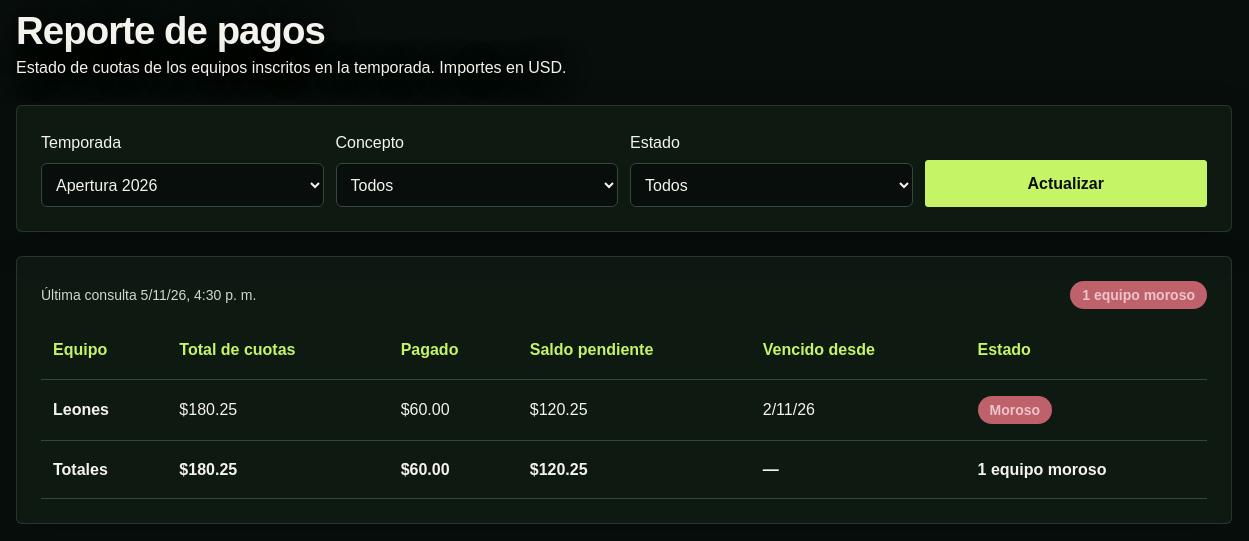
Test: aplica los filtros al actualizar y distingue un reporte vacío de un error
The image size is (1249, 541).
Check: the table is shown, box [41,321,1207,499]
Select "Clausura 2025" in the dropdown labelled "Temporada" at (182, 185), box [41,163,324,207]
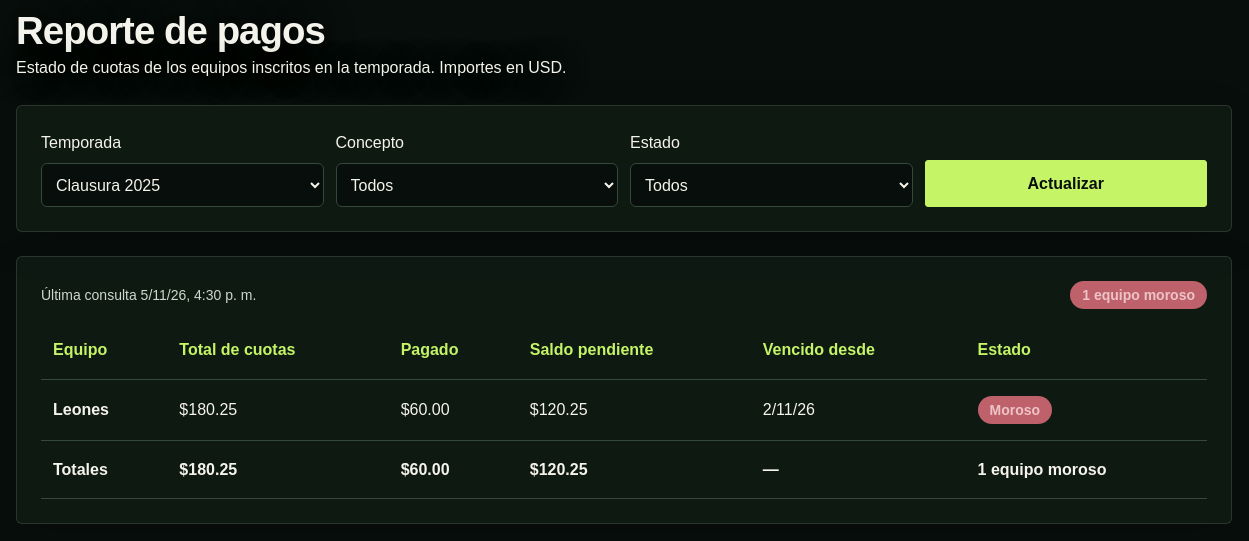
Select "Arbitraje" in the dropdown labelled "Concepto" at (477, 185), box [336,163,618,207]
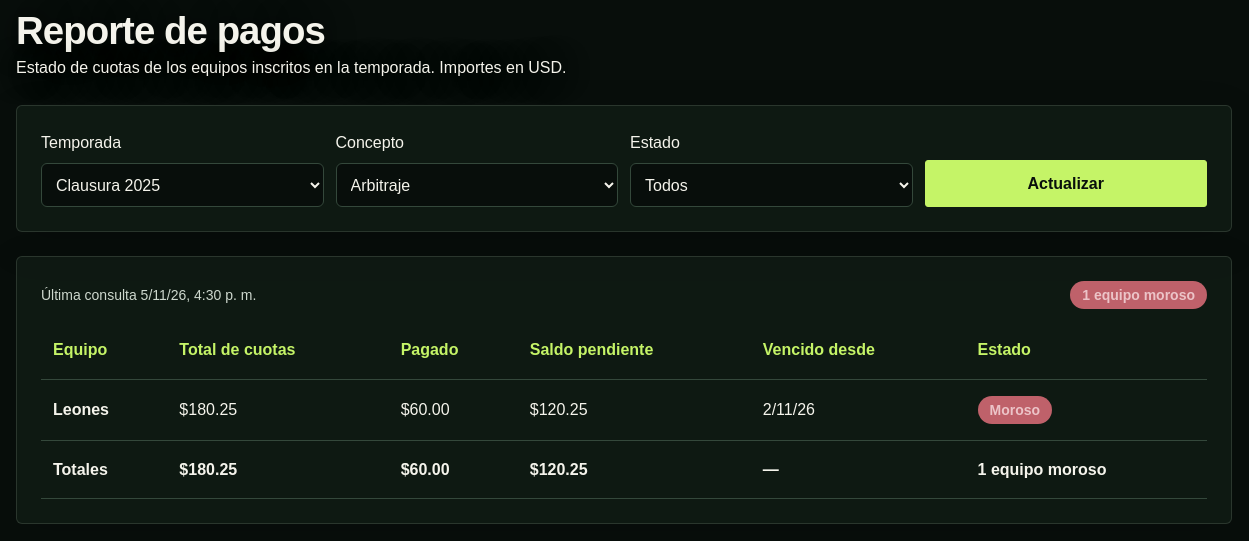
Select "Moroso" in the dropdown labelled "Estado" at (771, 185), box [630,163,912,207]
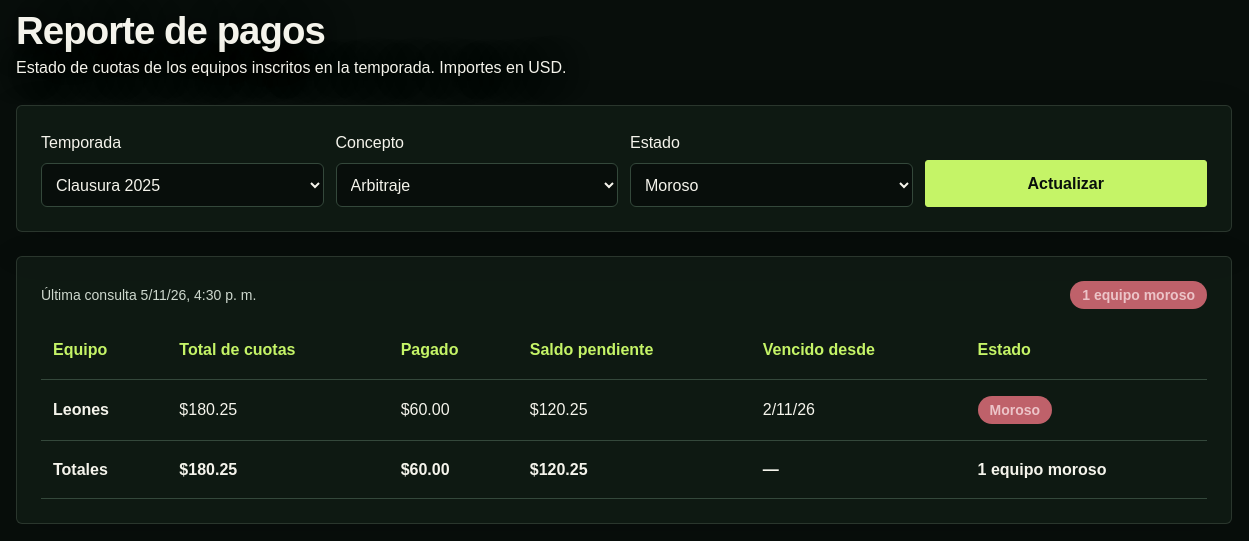
Click the button "Actualizar" at (1066, 183), box [924,160,1207,207]
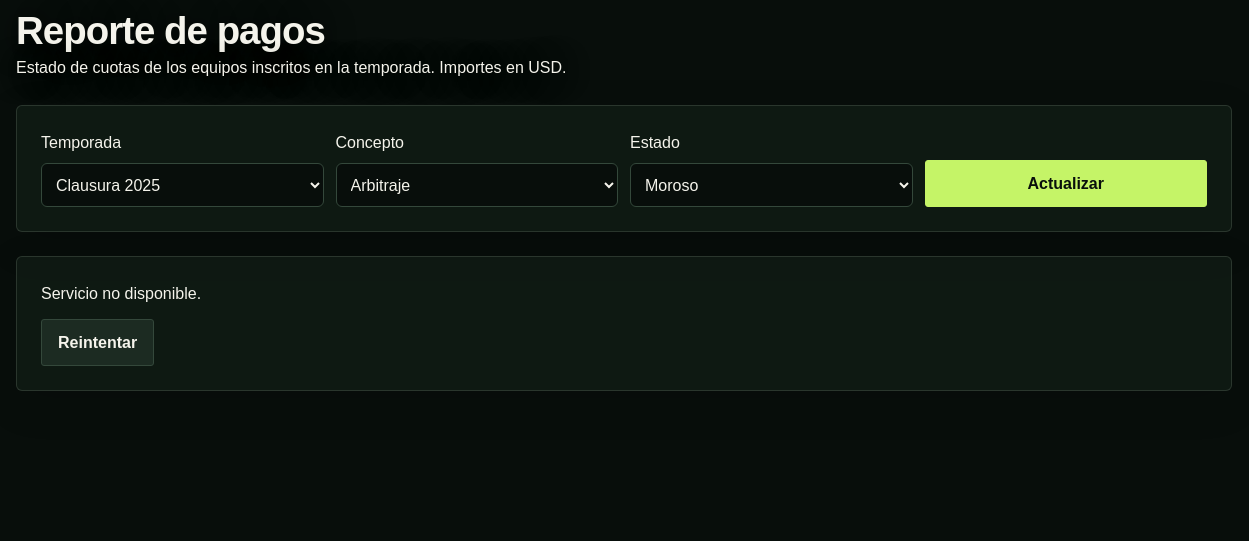
Check: the message "Servicio no disponible." is shown, box [41,281,201,307]
Check: the table is gone
Click the button "Reintentar" at (98, 343), box [41,319,154,366]
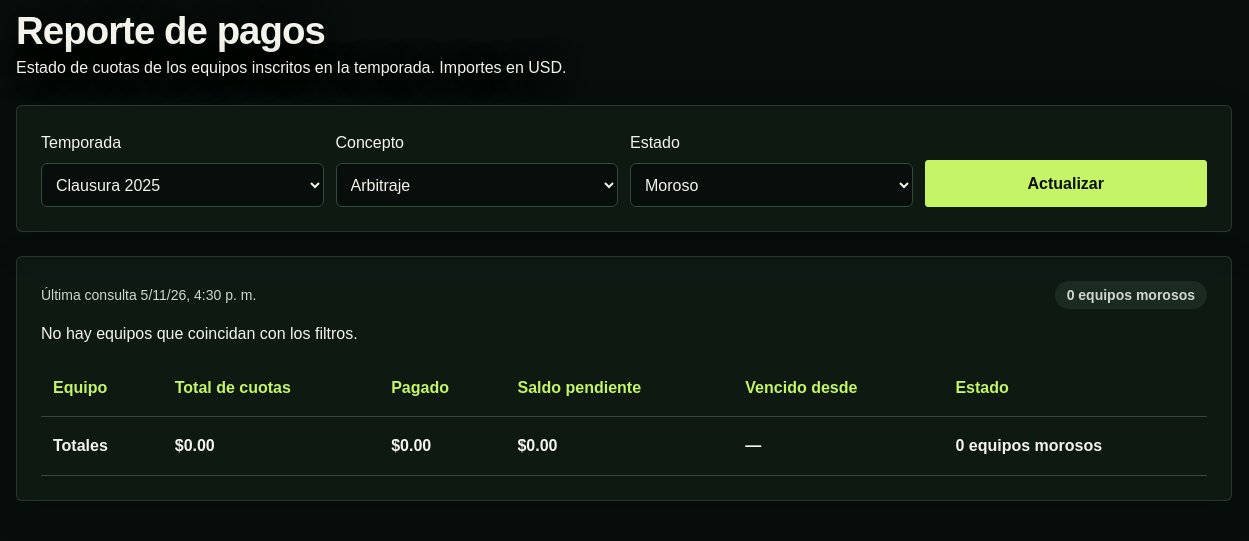
Check: the text "No hay equipos que coincidan con los filtros." is shown, box [41,321,358,347]
Check: the row "Totales $0.00 $0.00 $0.00 — 0 equipos morosos" is shown, box [41,417,1207,476]
